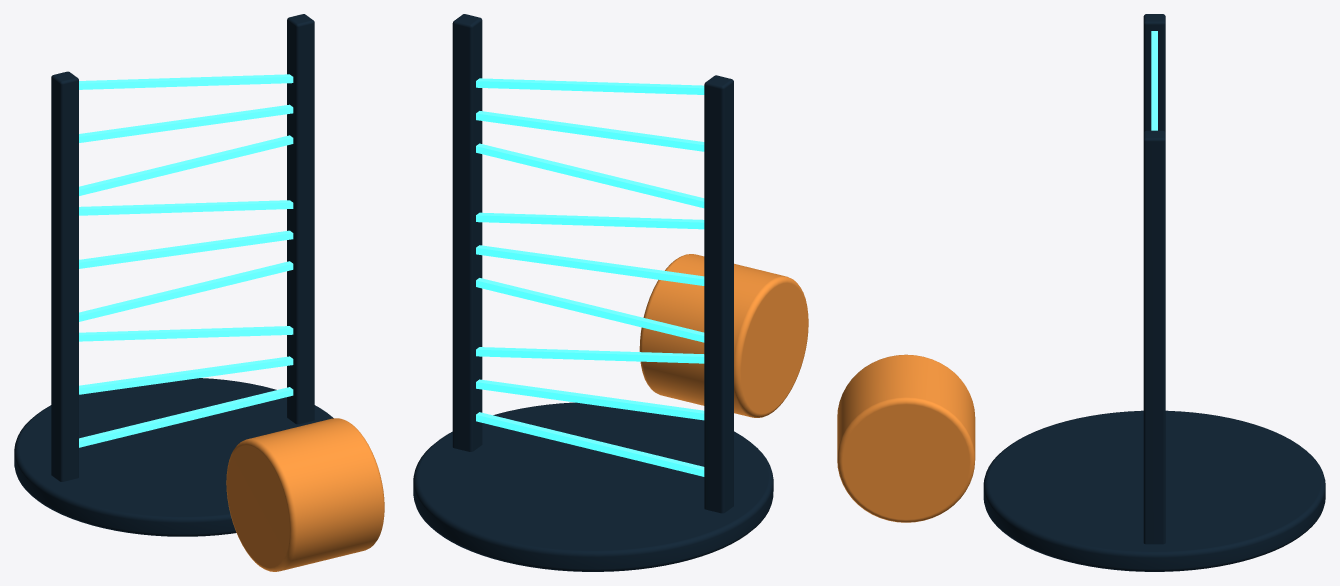
Rendered from theme_09.glb.
3 renders of one model, left to right at view 1: azimuth 30°, elevation 25°; view 2: azimuth 150°, elevation 25°; view 3: azimuth 270°, elevation 25°, orthographic. The views are drawn at different scales.
Parts seen in each view (by area): view 1: theme_09; view 2: theme_09; view 3: theme_09.
Part boxes in pixels (x1,y1,x2,y2): theme_09: (14, 14, 384, 571); theme_09: (413, 14, 808, 571); theme_09: (837, 14, 1325, 571).
Size of the model in its own units: 1.24 by 1.7 by 1.77.
